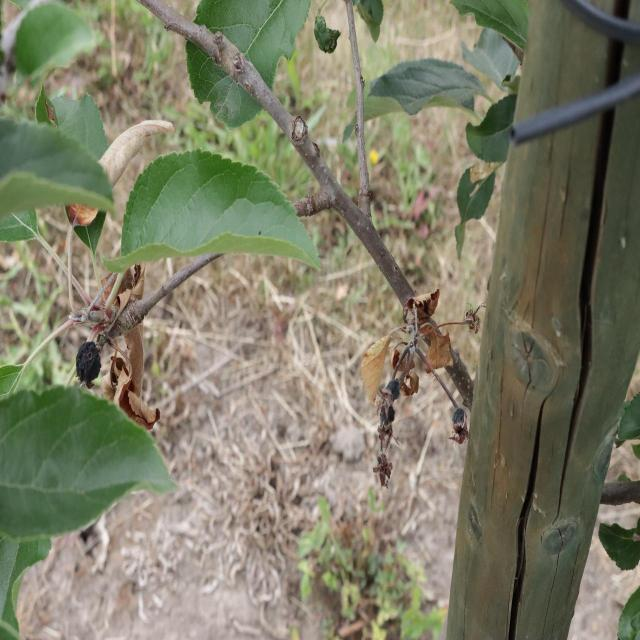-FireBlight-: (88, 281, 156, 432), (358, 302, 462, 389)
